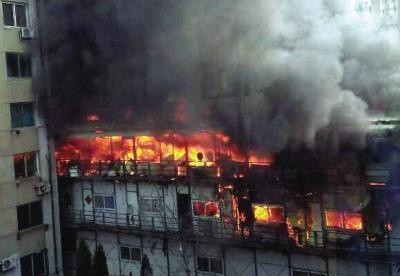fire: (54, 124, 273, 172), (326, 208, 363, 228), (253, 201, 274, 220)
